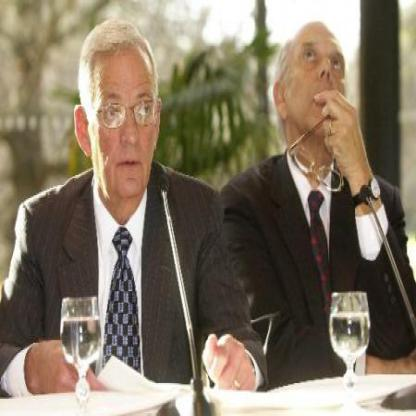face: (88, 26, 163, 201), (281, 19, 351, 138)
